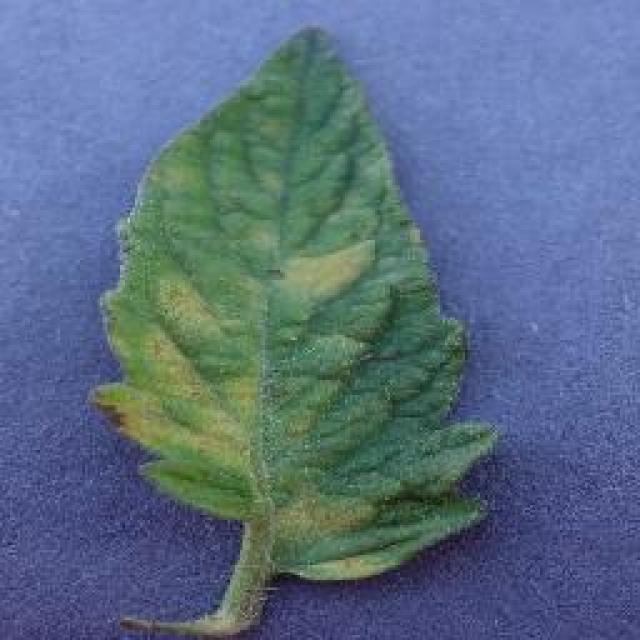Tomato mold leaf: (94, 26, 507, 582)
